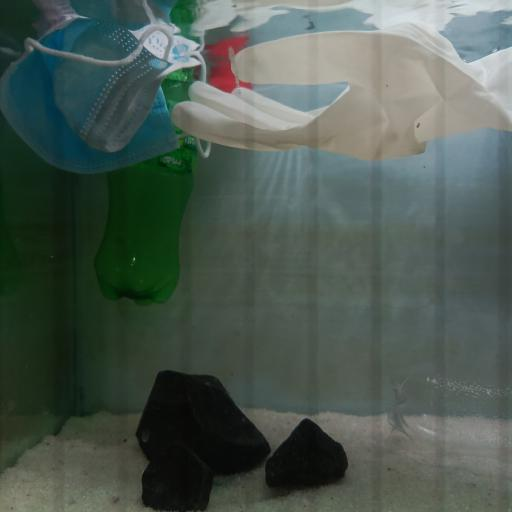bottle_cap: (209, 71, 248, 93)
glove: (172, 25, 511, 165)
mask: (0, 16, 213, 176)
plastic_bottle: (94, 104, 194, 306), (388, 370, 512, 462)
